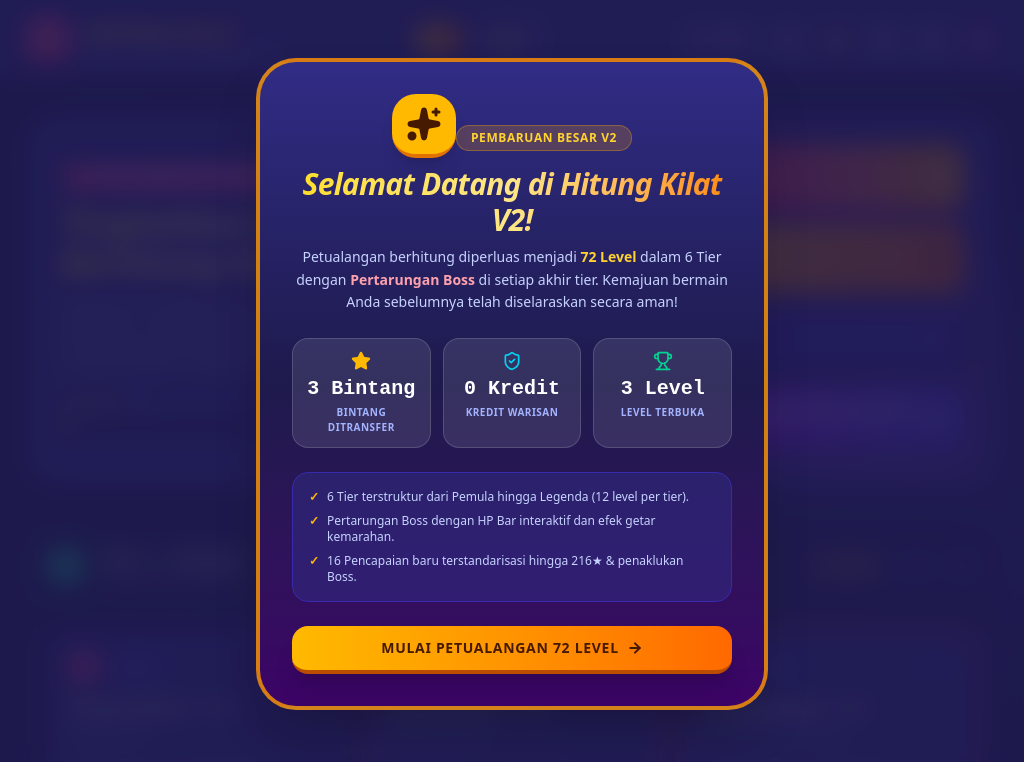
Campaign V2 End-to-End Flow (Spec §2 & §8) › launches V2 welcome modal when V1 progress is detected
Expected: the heading "Selamat Datang di Hitung Kilat V2!" is shown, [292, 166, 732, 238]
Click the button "Mulai Petualangan 72 Level" at (512, 650), box [292, 626, 732, 674]
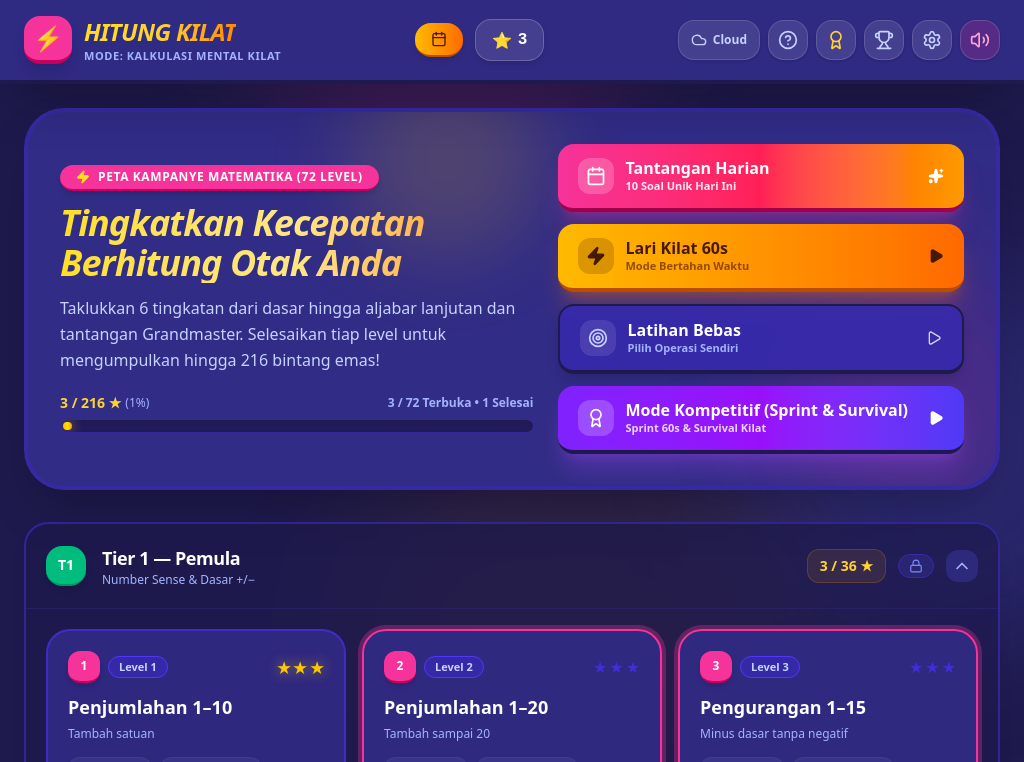
Expected: the text "Peta Kampanye Matematika (72 Level)" is shown, [98, 169, 363, 185]
Expected: the heading "Selamat Datang di Hitung Kilat V2!" is gone
